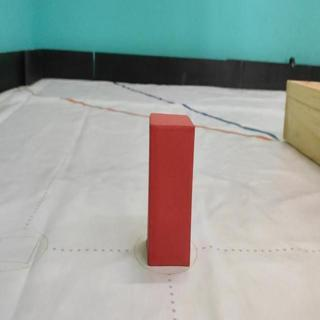redbox: (147, 113, 196, 266)
